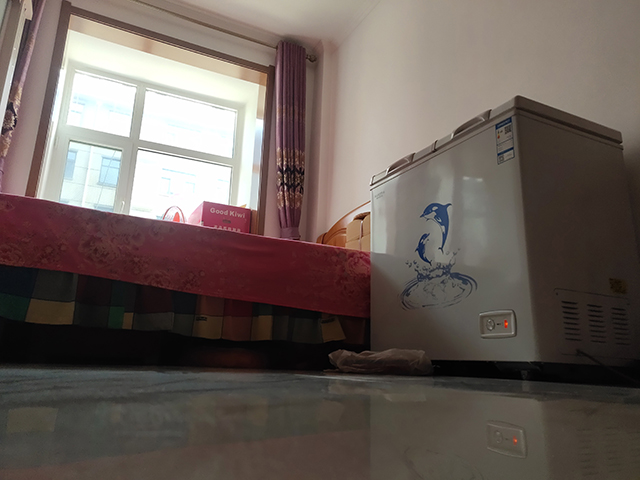bed: (1, 193, 372, 368)
curtain: (275, 38, 305, 238)
